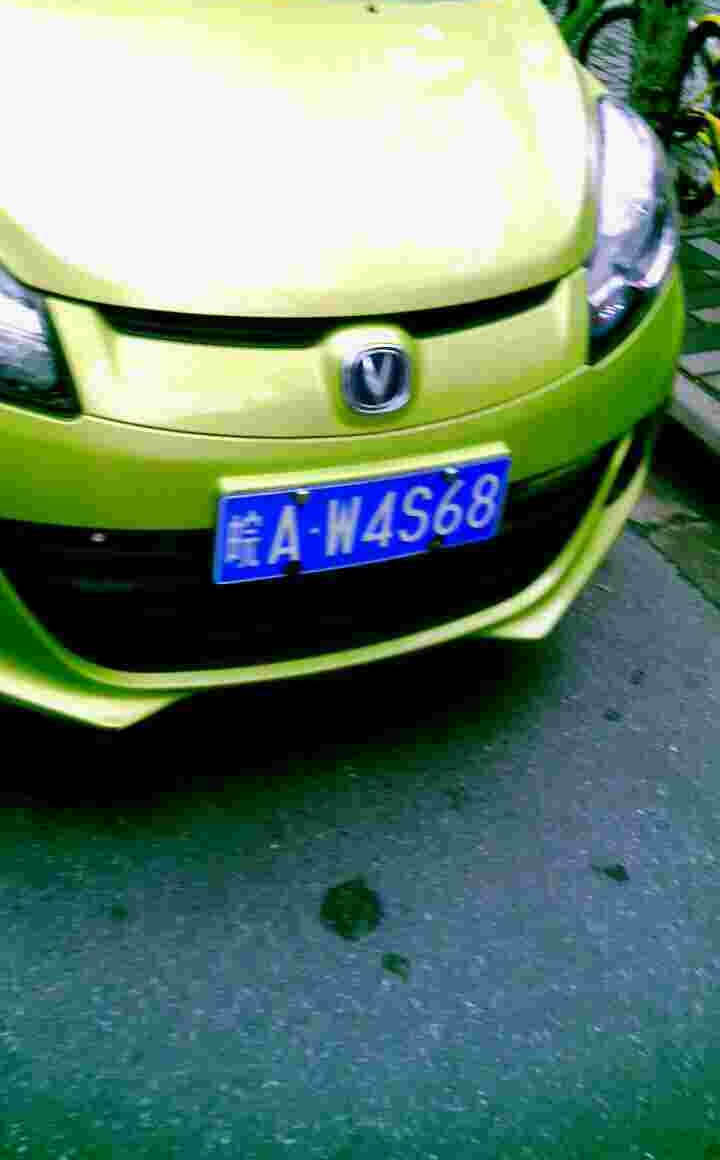license_plate: (215, 452, 511, 590)
